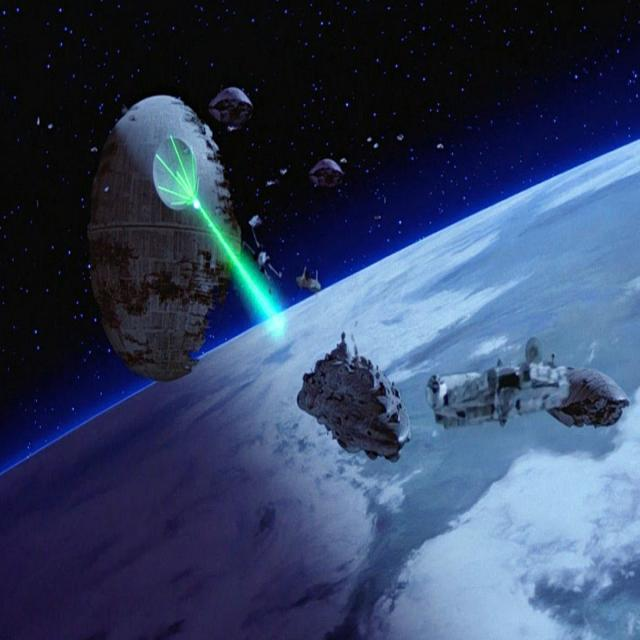deathStar: (84, 91, 244, 390)
